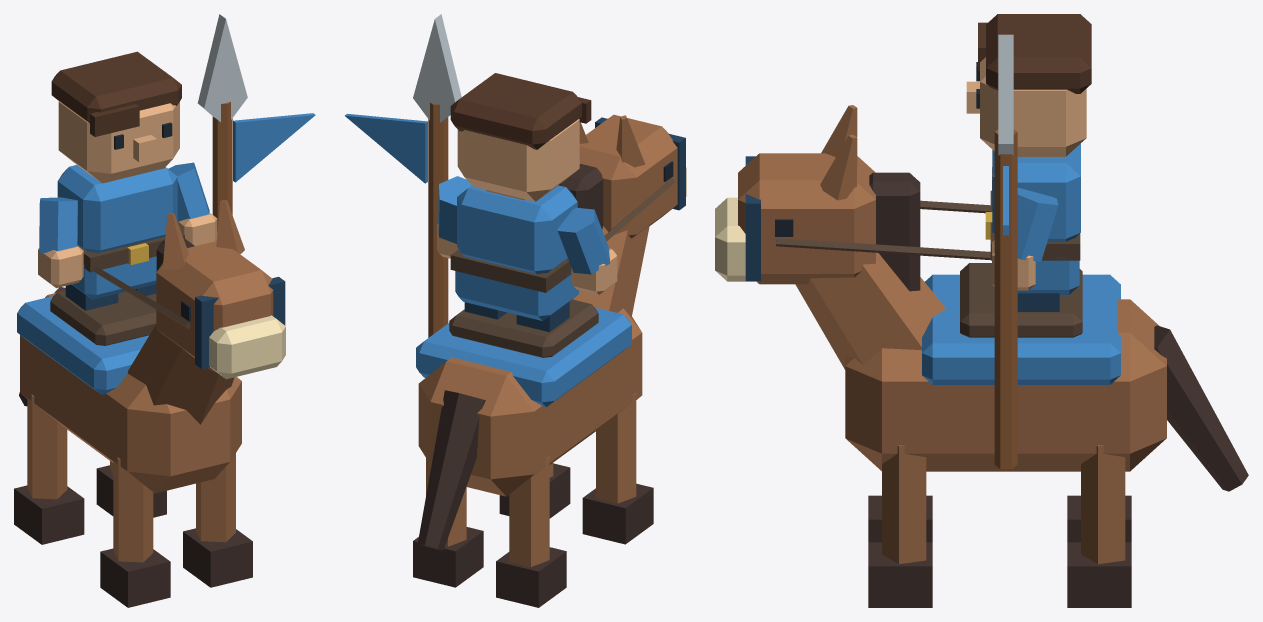
Rendered from u_horseman.glb.
The picture shows the model from 3 angles, left to right: view 1: azimuth 30°, elevation 25°; view 2: azimuth 150°, elevation 25°; view 3: azimuth 270°, elevation 25°; orthographic projection. The views are drawn at different scales.
Visible parts, largest first — view 1: u_horseman; view 2: u_horseman; view 3: u_horseman.
Boxes of the visible parts, x1,y1,x2,y2 form: u_horseman: (14, 14, 315, 607); u_horseman: (344, 14, 686, 607); u_horseman: (715, 14, 1248, 607).
Bounding box in the file's own units: 0.2344 × 0.425 × 0.3486.
